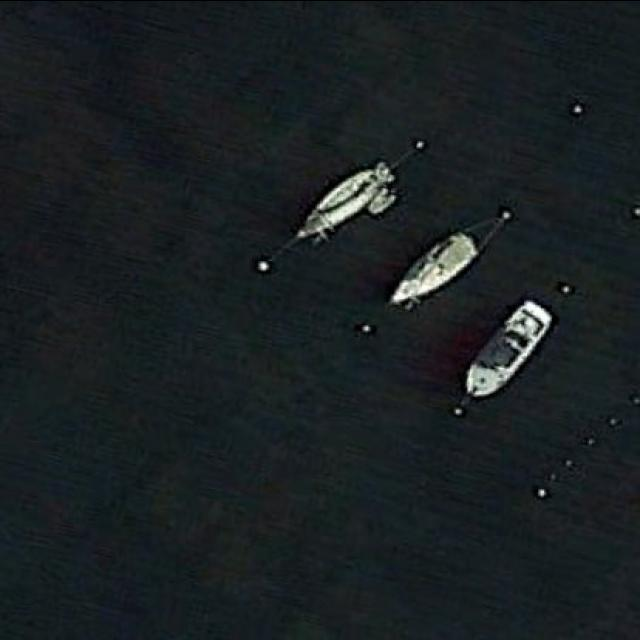ship: (456, 296, 555, 411), (289, 162, 394, 244), (383, 228, 482, 306)
